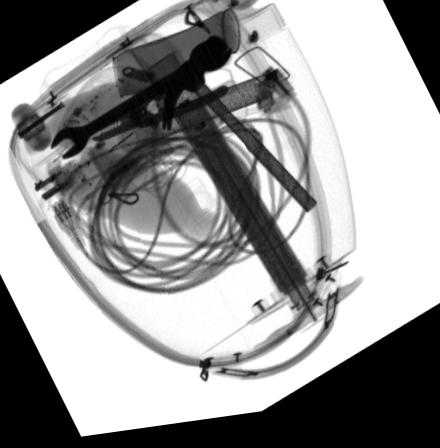Hammer: (159, 46, 318, 222)
Pliers: (88, 61, 229, 145)
Powerbank: (47, 113, 174, 217)
Wrench: (49, 46, 231, 161)
